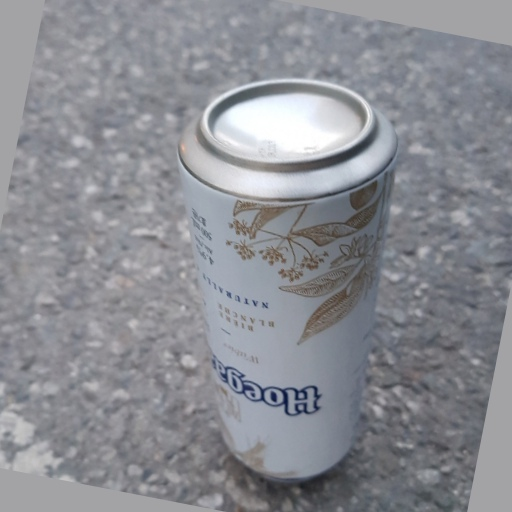Metal_0: (177, 77, 399, 488)
